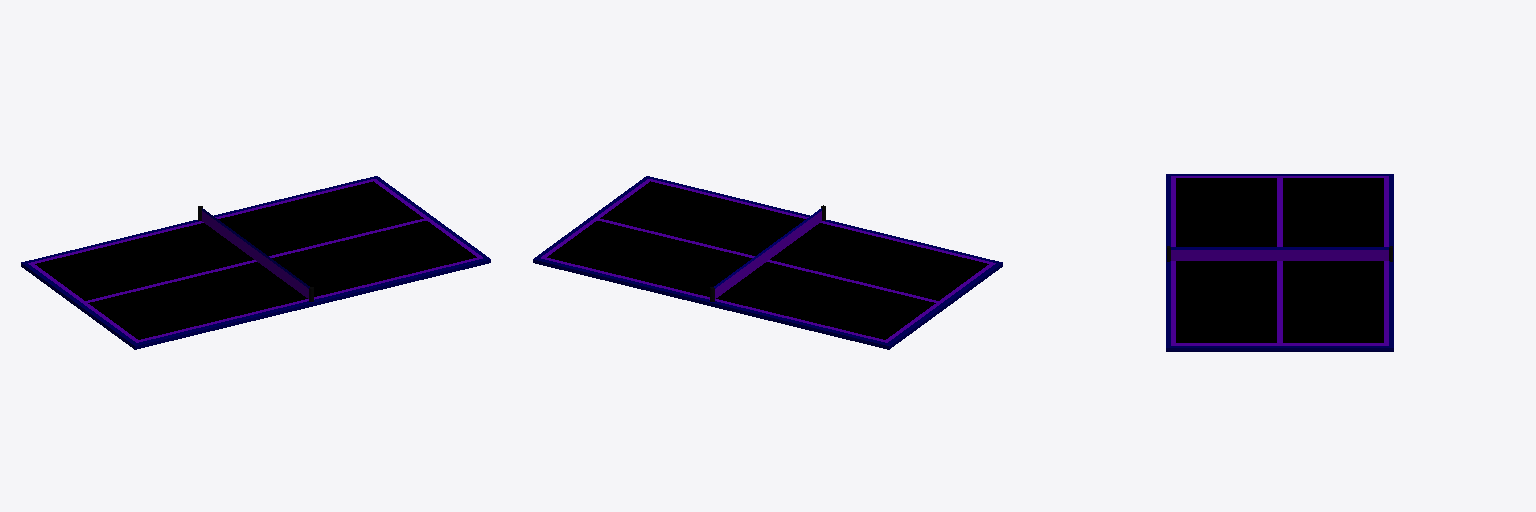
The model's file is table5.obj.
3 views of the same model, side by side, from view 1: azimuth 30°, elevation 25°; view 2: azimuth 150°, elevation 25°; view 3: azimuth 270°, elevation 25° (orthographic).
Visible parts, largest first — view 1: Box001_Untitled.003, Plane001_Untitled.015; view 2: Box001_Untitled.003, Plane001_Untitled.015; view 3: Box001_Untitled.003, Plane001_Untitled.015.
Boxes of the visible parts, box(x1,y1,x2,y2) form: Box001_Untitled.003: box(21, 176, 490, 349); Plane001_Untitled.015: box(202, 208, 309, 298); Box001_Untitled.003: box(533, 176, 1002, 349); Plane001_Untitled.015: box(714, 208, 821, 298); Box001_Untitled.003: box(1166, 174, 1393, 351); Plane001_Untitled.015: box(1171, 247, 1388, 260).
Bounding box in the file's own units: 2.74 × 0.13 × 1.52.